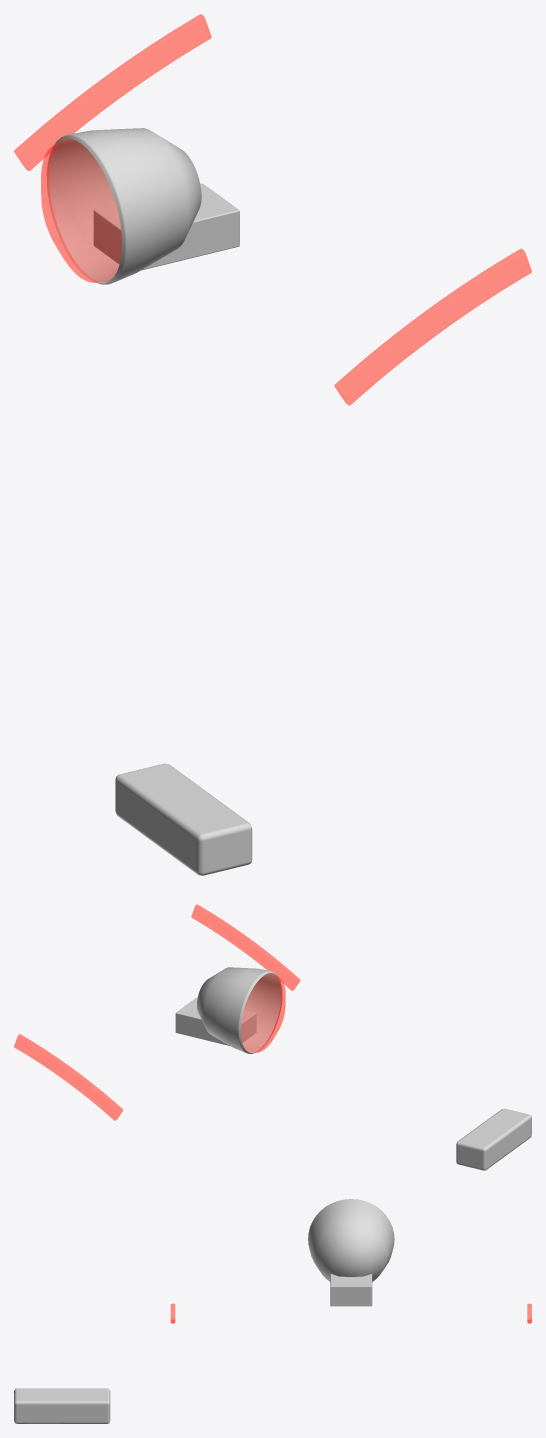
The model's file is bike_cruiser__tail_light.glb.
3 views of the same model, one above another, from view 1: azimuth 30°, elevation 25°; view 2: azimuth 150°, elevation 25°; view 3: azimuth 270°, elevation 25° (orthographic). The views are drawn at different scales.
Visible parts, largest first — view 1: electrical__tail_light, electrical__tail_light__side_reflectors, electrical__number_plate_light, electrical__tail_light__lens; view 2: electrical__tail_light, electrical__tail_light__side_reflectors, electrical__number_plate_light, electrical__tail_light__lens; view 3: electrical__tail_light, electrical__number_plate_light.
Boxes of the visible parts, x1,y1,x2,y2 form: electrical__tail_light: (47,128,239,284); electrical__tail_light__side_reflectors: (14,14,531,405); electrical__number_plate_light: (115,763,252,875); electrical__tail_light__lens: (41,138,121,282); electrical__tail_light: (175,967,281,1053); electrical__tail_light__side_reflectors: (14,904,300,1120); electrical__number_plate_light: (456,1108,531,1170); electrical__tail_light__lens: (241,973,285,1052); electrical__tail_light: (308,1199,394,1306); electrical__number_plate_light: (14,1388,110,1423).
Size of the model in its own units: 18.96 by 18.02 by 32.25.
